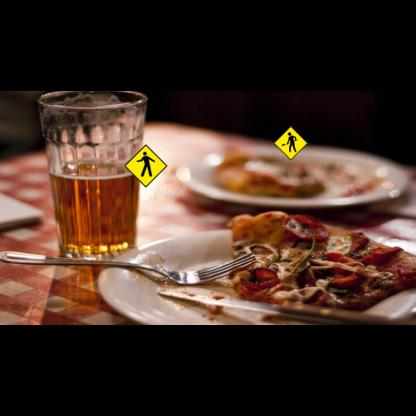A-24: (274, 126, 308, 160)
A-32a: (124, 144, 167, 187)
